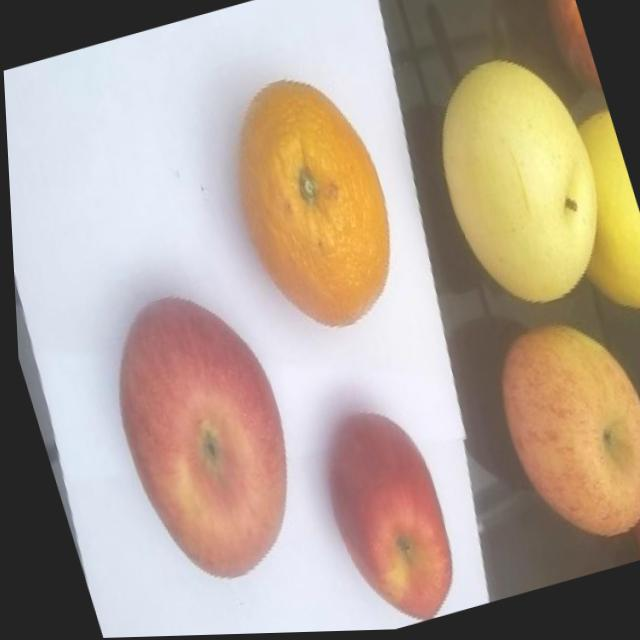Apple: (85, 276, 318, 598), (476, 309, 640, 560), (301, 400, 466, 633), (531, 0, 602, 105), (609, 453, 640, 563)
Orange: (207, 63, 416, 348)
